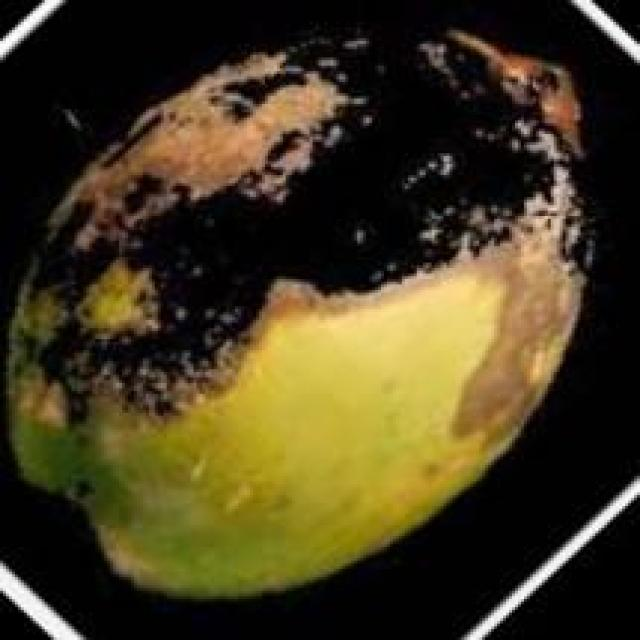damaged: (6, 25, 595, 599)
